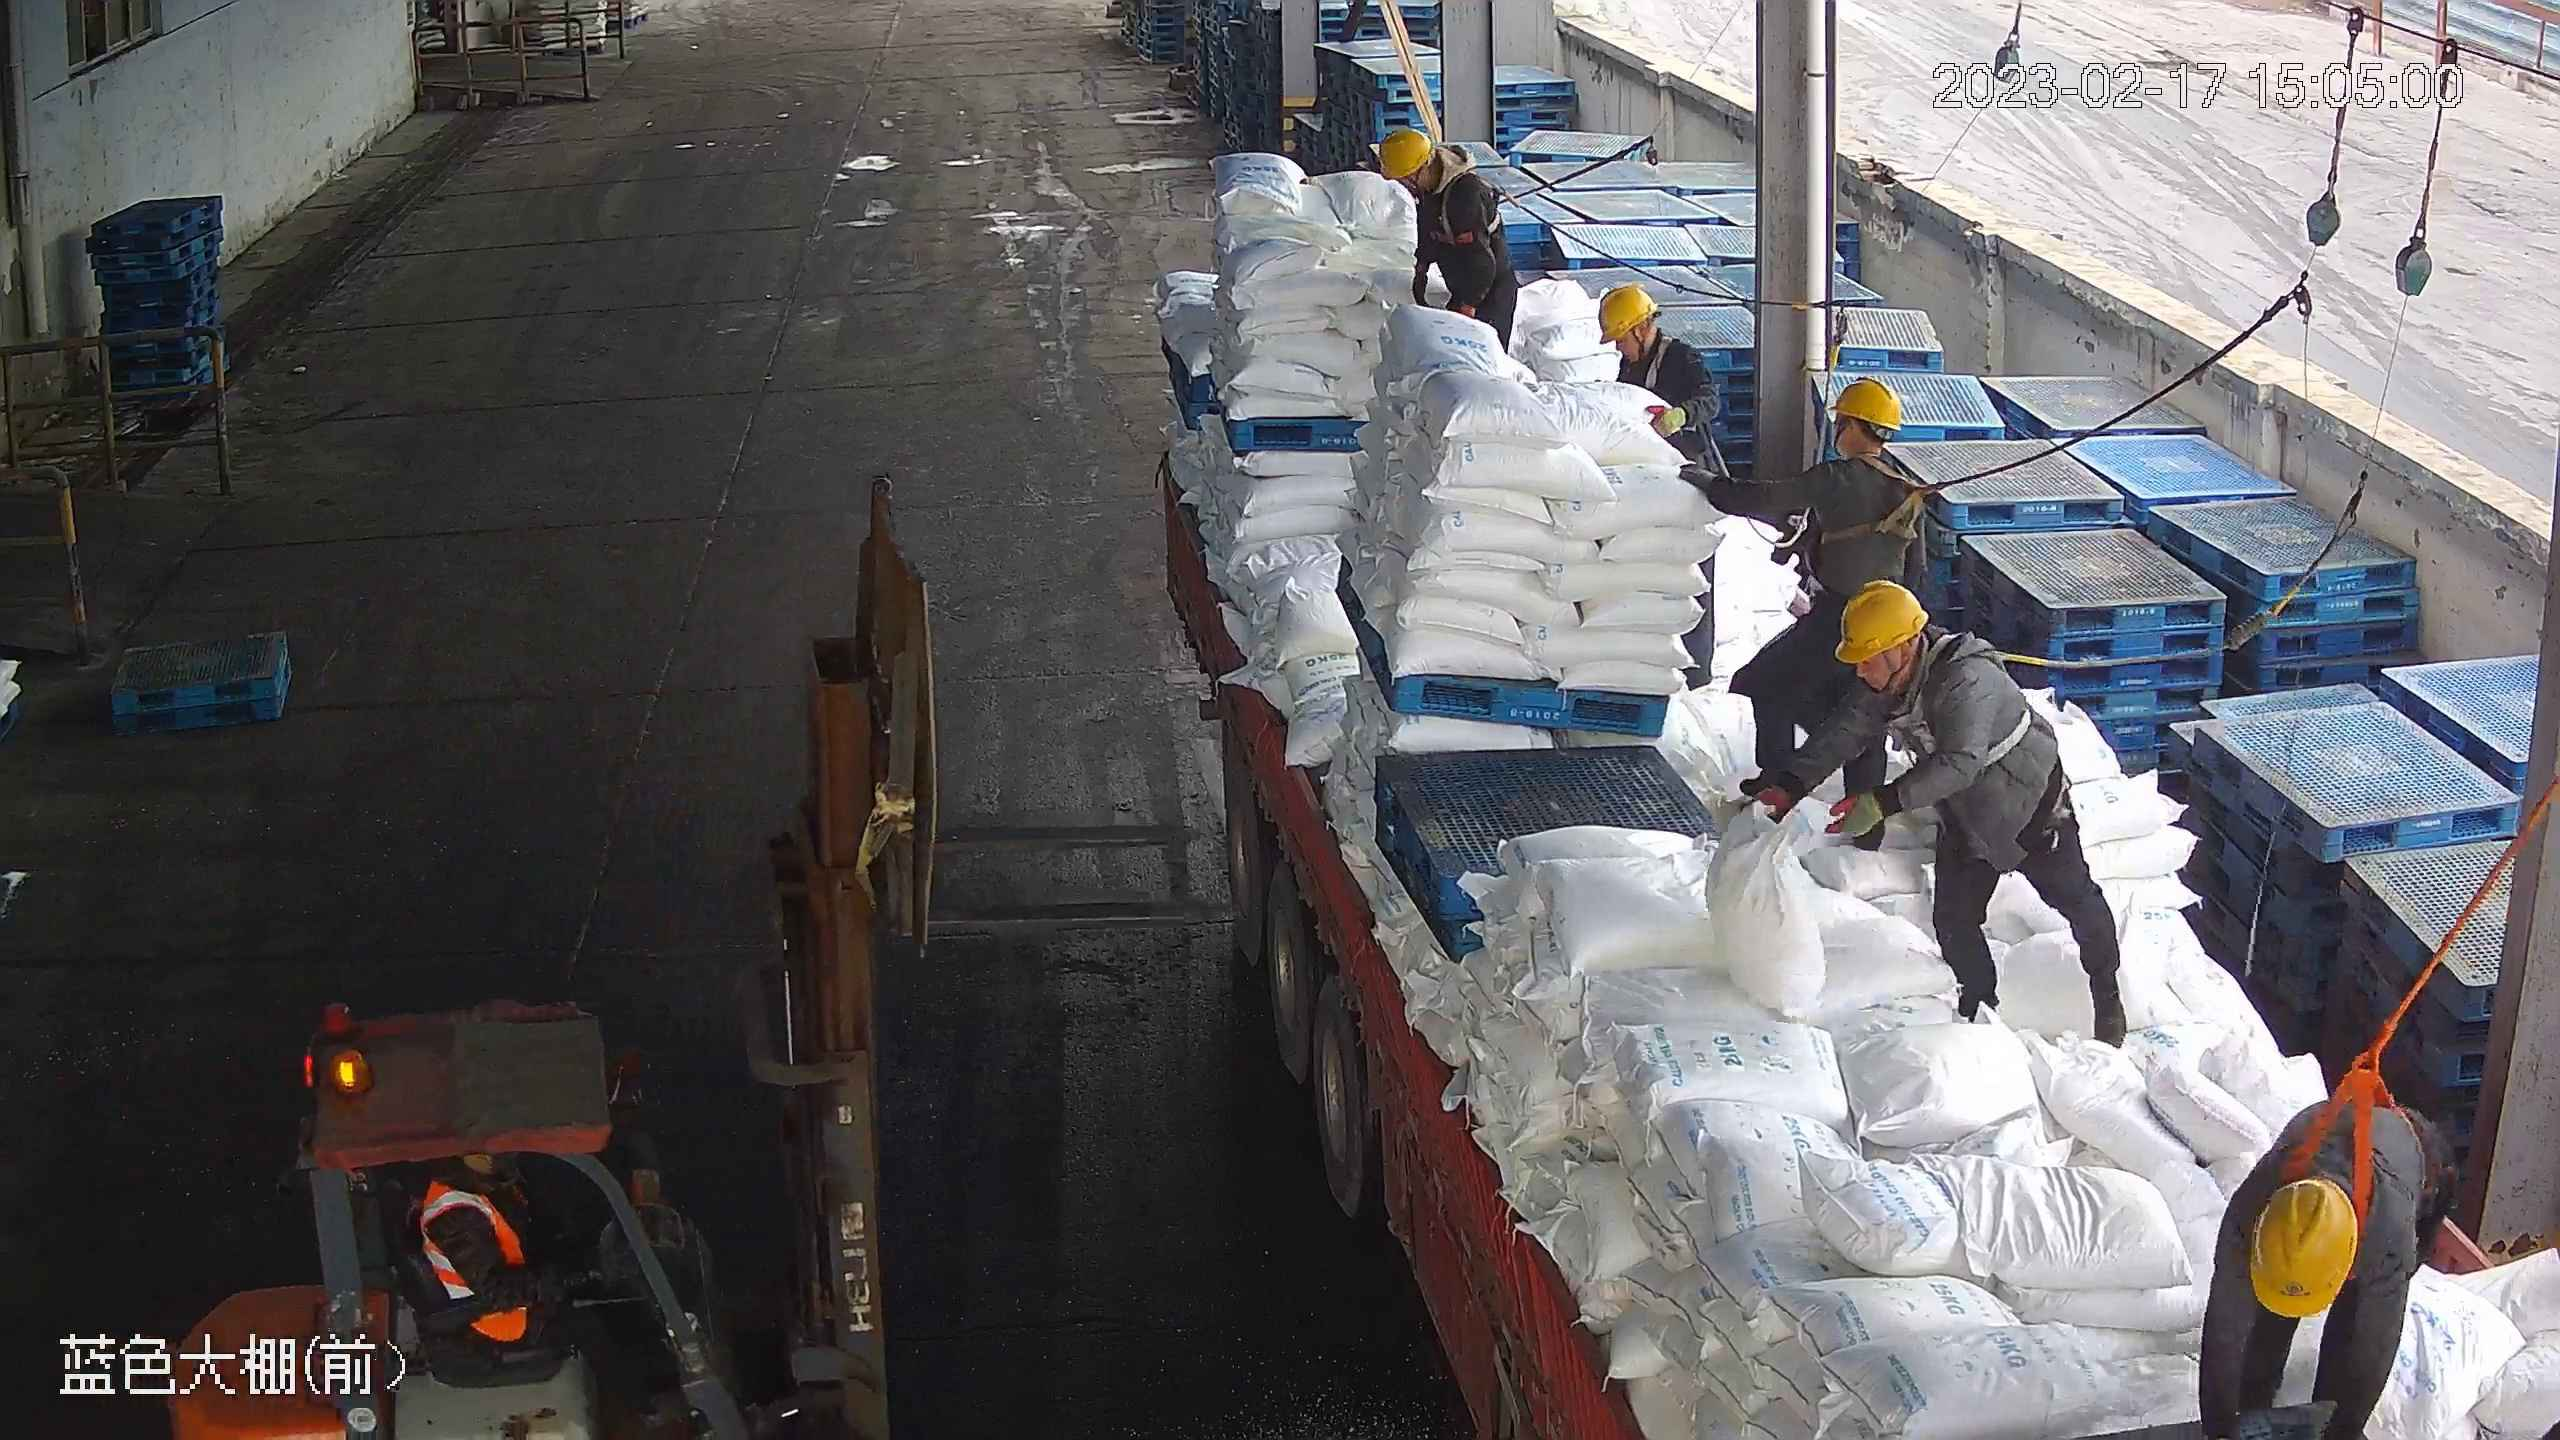belt: (1884, 626, 2052, 774), (2276, 1060, 2400, 1211), (1820, 446, 1950, 548), (1418, 159, 1506, 245), (1622, 330, 1699, 398)
head: (1831, 574, 2008, 729), (1795, 371, 1926, 513), (1590, 279, 1710, 387), (1385, 128, 1504, 218)
helmet: (2242, 1174, 2361, 1317), (1832, 577, 1928, 667), (1828, 374, 1904, 431), (1595, 282, 1658, 342), (1379, 125, 1437, 182)
people: (1757, 576, 2134, 1040), (1719, 370, 1926, 815), (2196, 1097, 2428, 1440), (411, 1154, 688, 1423), (1596, 273, 1741, 708), (1382, 127, 1524, 358)
truck: (1142, 214, 2533, 1440)
